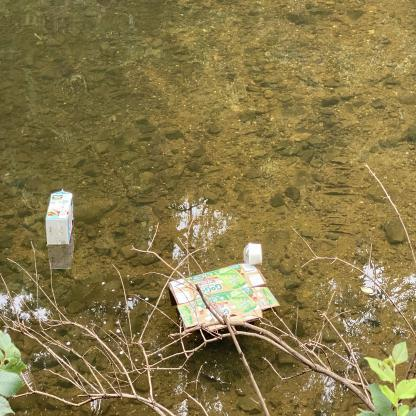trash: (172, 259, 286, 334), (42, 186, 77, 252), (248, 238, 266, 270), (240, 237, 250, 268)
